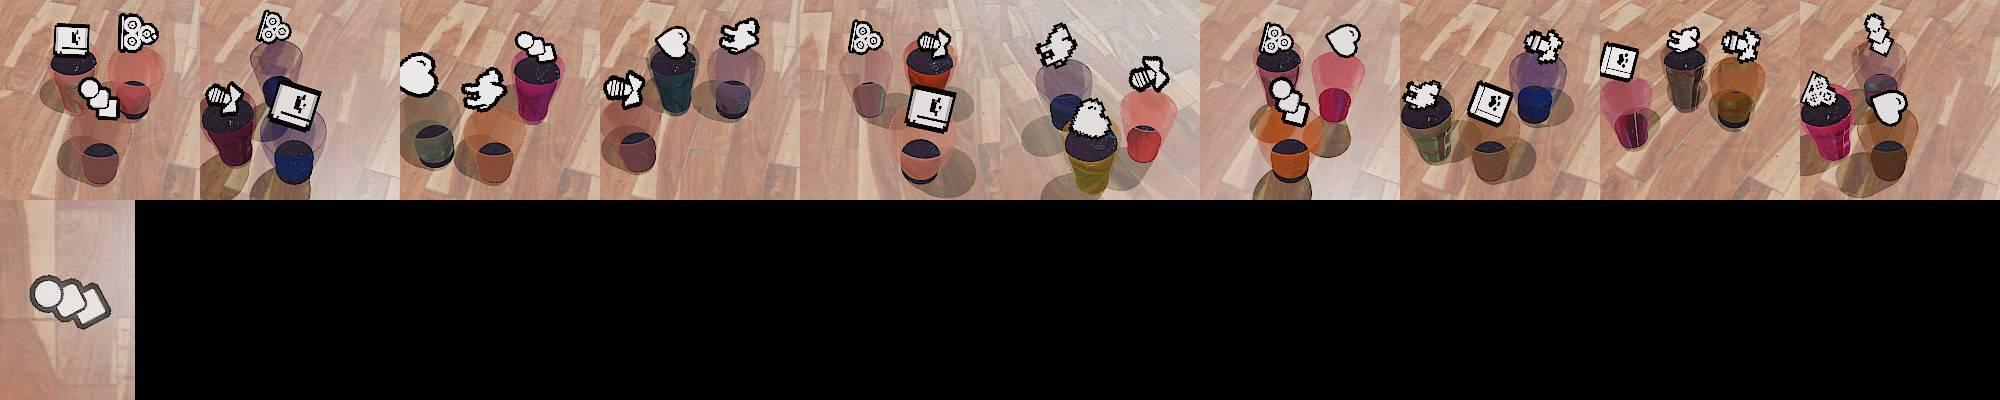icon: (28, 272, 114, 329), (267, 78, 322, 132), (904, 85, 957, 135), (1465, 80, 1514, 127), (460, 65, 508, 112), (1066, 97, 1114, 140), (1269, 77, 1311, 126), (78, 77, 123, 120), (1035, 21, 1076, 68), (399, 51, 439, 97), (604, 69, 647, 110), (1599, 41, 1640, 84), (513, 30, 560, 66), (1129, 55, 1171, 93), (1522, 27, 1566, 63), (53, 23, 93, 62), (718, 17, 760, 54), (1863, 11, 1895, 58), (120, 13, 159, 51), (652, 25, 693, 61), (1801, 71, 1839, 109), (1870, 89, 1909, 126), (204, 80, 245, 115), (1720, 27, 1762, 61), (848, 18, 885, 56), (1403, 78, 1445, 109), (256, 9, 292, 45), (1260, 22, 1297, 57), (1326, 23, 1362, 58), (1665, 24, 1702, 55), (917, 28, 952, 56)
